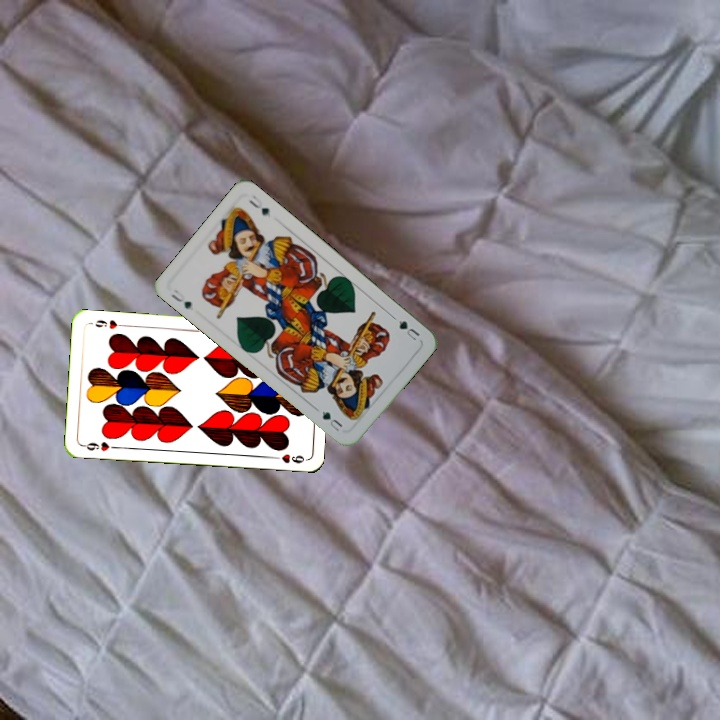GU: (389, 312, 422, 343), (167, 285, 194, 312)
H9: (79, 438, 119, 453)
